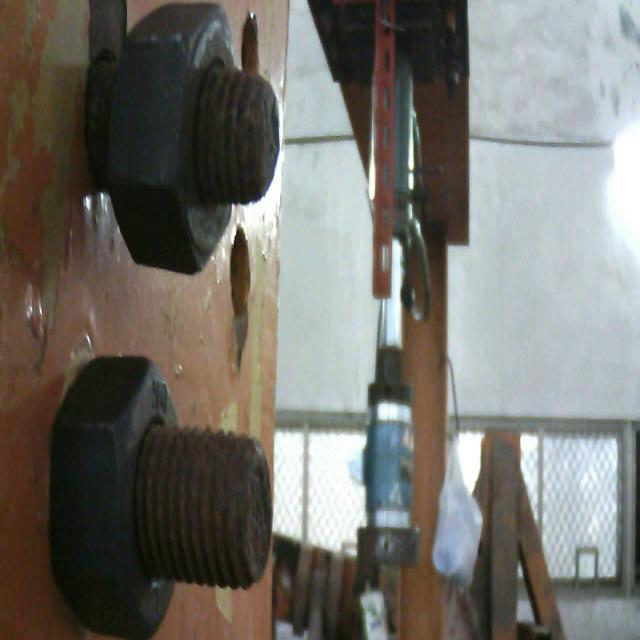Loose bolt: (59, 10, 289, 258)
Rusty bolt: (49, 327, 279, 637), (70, 3, 290, 267)
